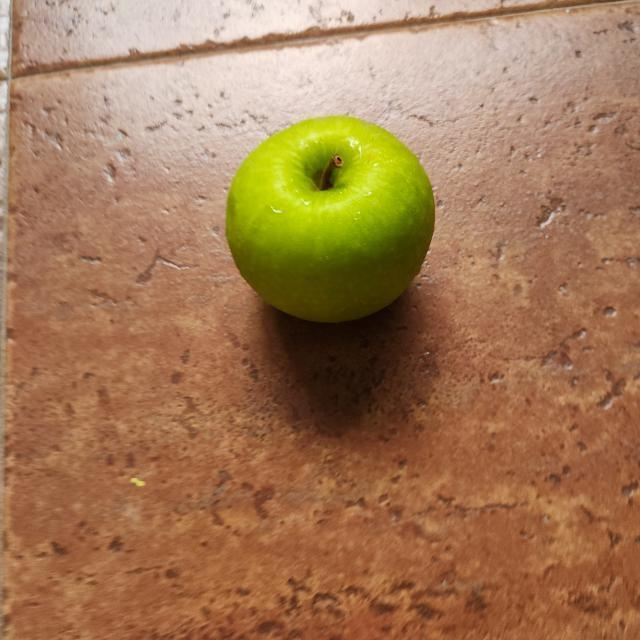apple: (222, 111, 445, 332)
